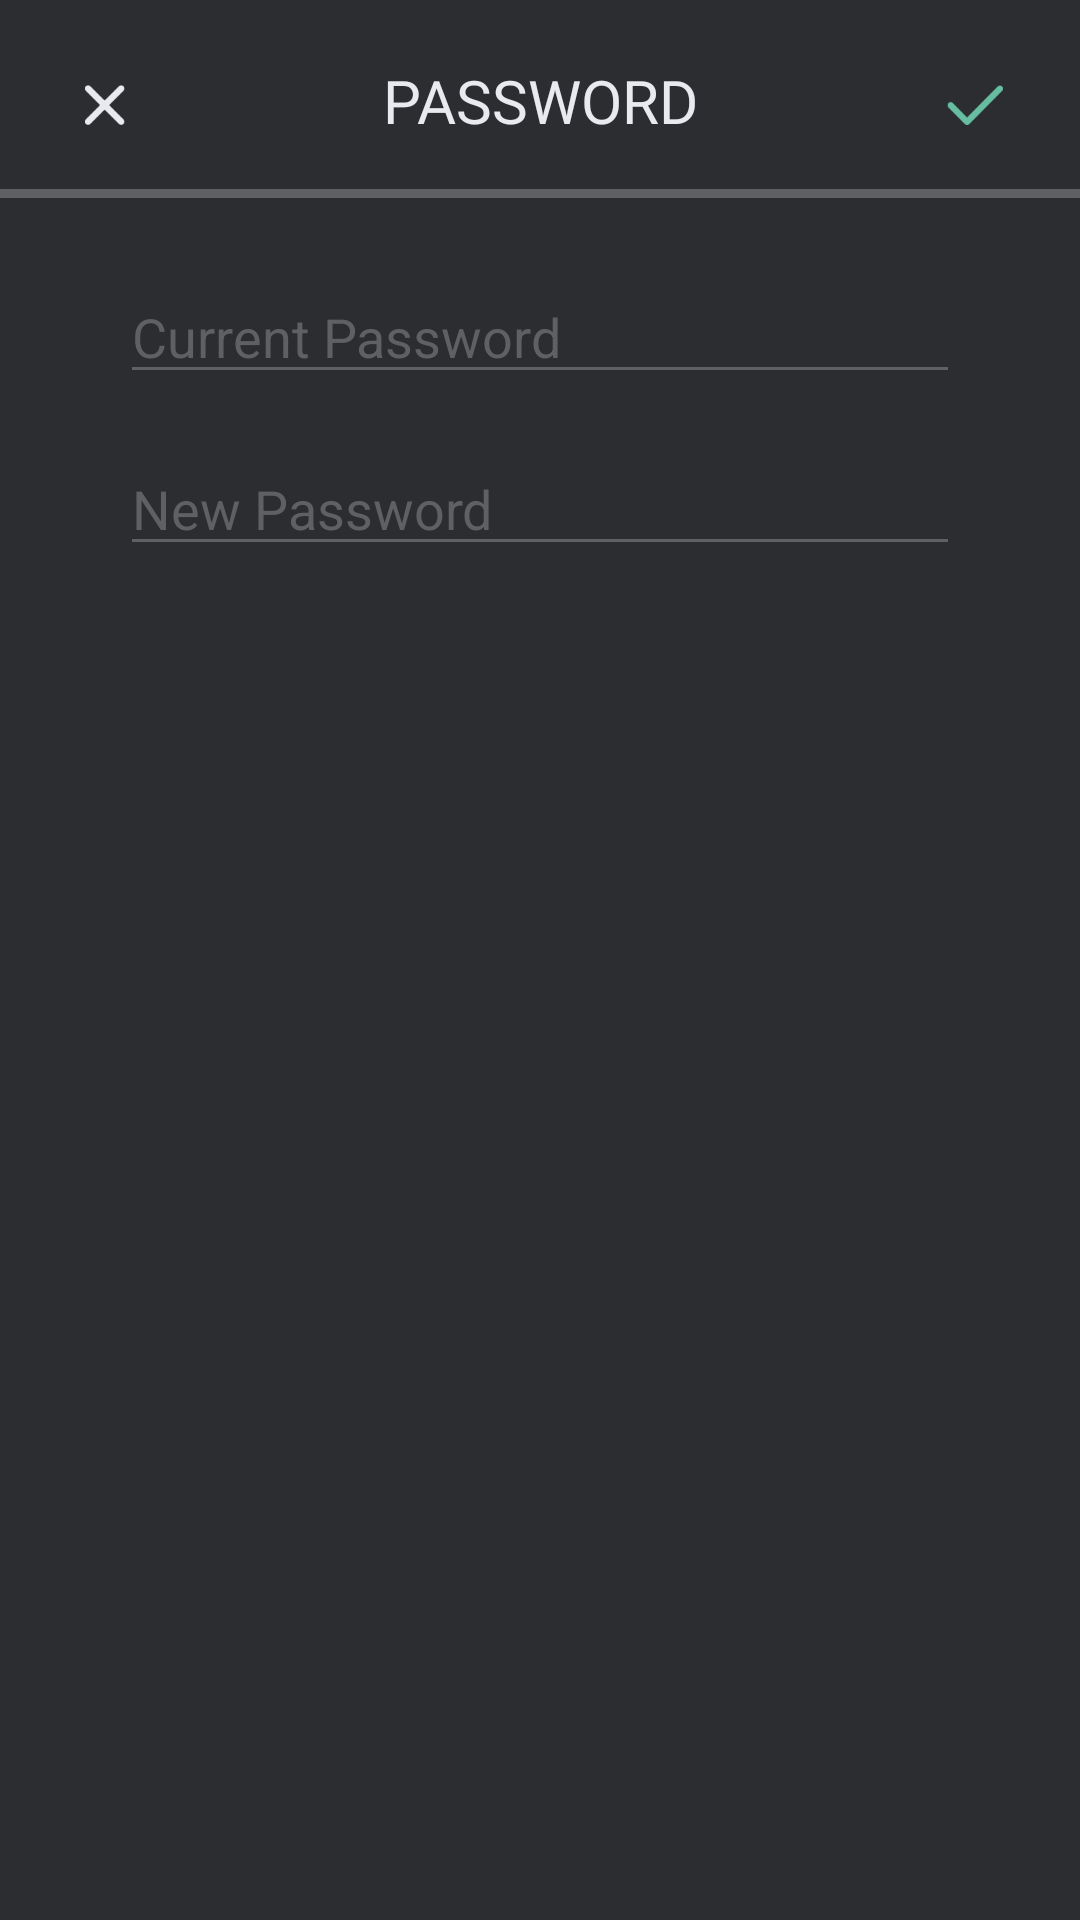

Icons on this 1080*1920 Android screen, each with the point to tap as (x,y):
cancel: (105,105)
done: (975,105)
